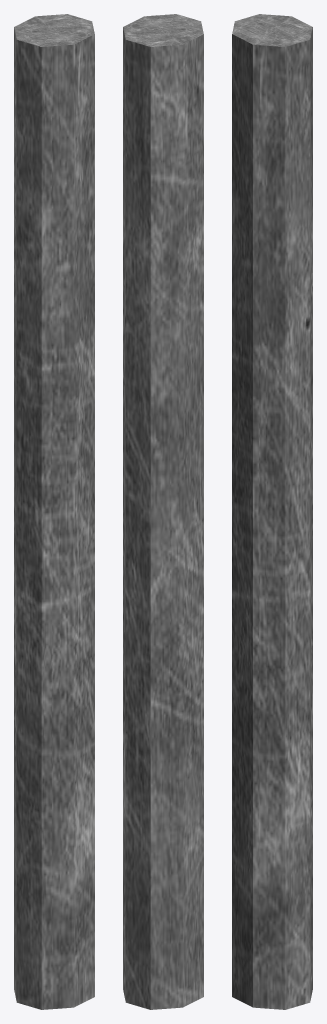
The model's file is metalrod.fbx.
3 views of the same model, side by side, from view 1: azimuth 30°, elevation 25°; view 2: azimuth 210°, elevation 25°; view 3: azimuth 330°, elevation 25° (orthographic).
Parts seen in each view (by area): view 1: pCylinder1; view 2: pCylinder1; view 3: pCylinder1.
Boxes of the visible parts, x1,y1,x2,y2 form: pCylinder1: (14, 14, 94, 1009); pCylinder1: (123, 14, 203, 1009); pCylinder1: (232, 14, 312, 1009).
Bounding box in the file's own units: 1.28 × 15.65 × 1.14.
1 material, 1 textured.
